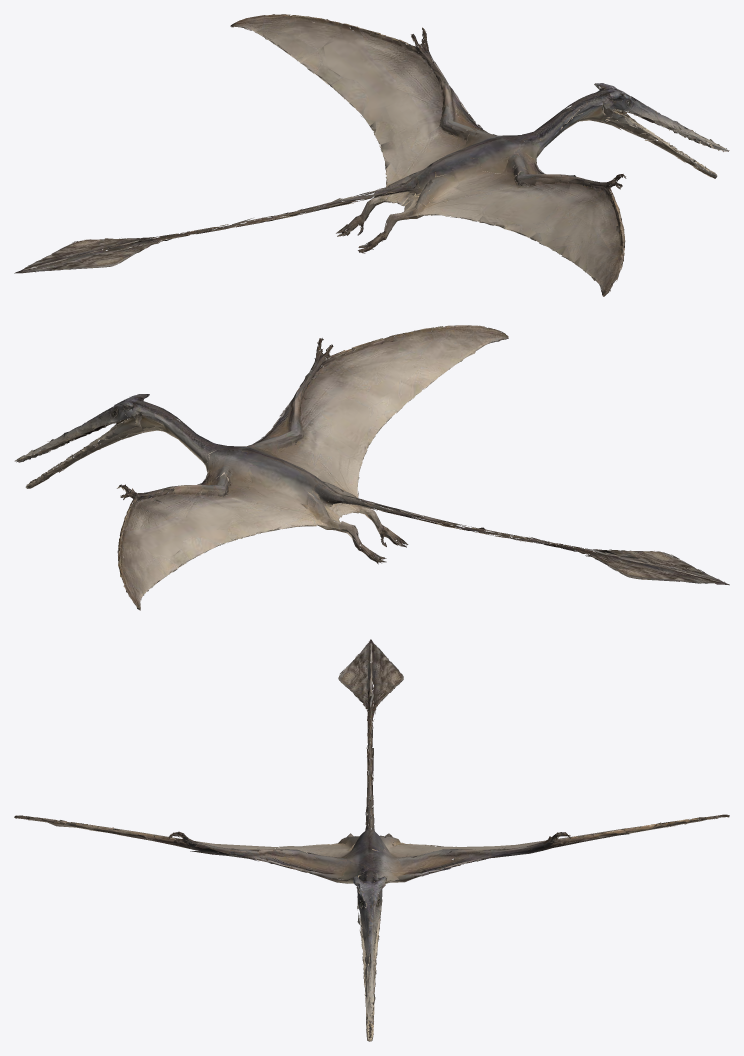
File: rhamphorhynchus.glb
3 renders of one model, top to bottom at view 1: azimuth 30°, elevation 25°; view 2: azimuth 150°, elevation 25°; view 3: azimuth 270°, elevation 25°, orthographic. The views are drawn at different scales.
Visible parts, largest first — view 1: Mesh_0; view 2: Mesh_0; view 3: Mesh_0.
Boxes of the visible parts, box(x1,y1,x2,y2) form: Mesh_0: box(14, 14, 729, 296); Mesh_0: box(14, 325, 729, 610); Mesh_0: box(14, 639, 729, 1041).
Size of the model in its own units: 1 by 0.1656 by 0.9008.
Materials: 1 (1 with a texture image).
